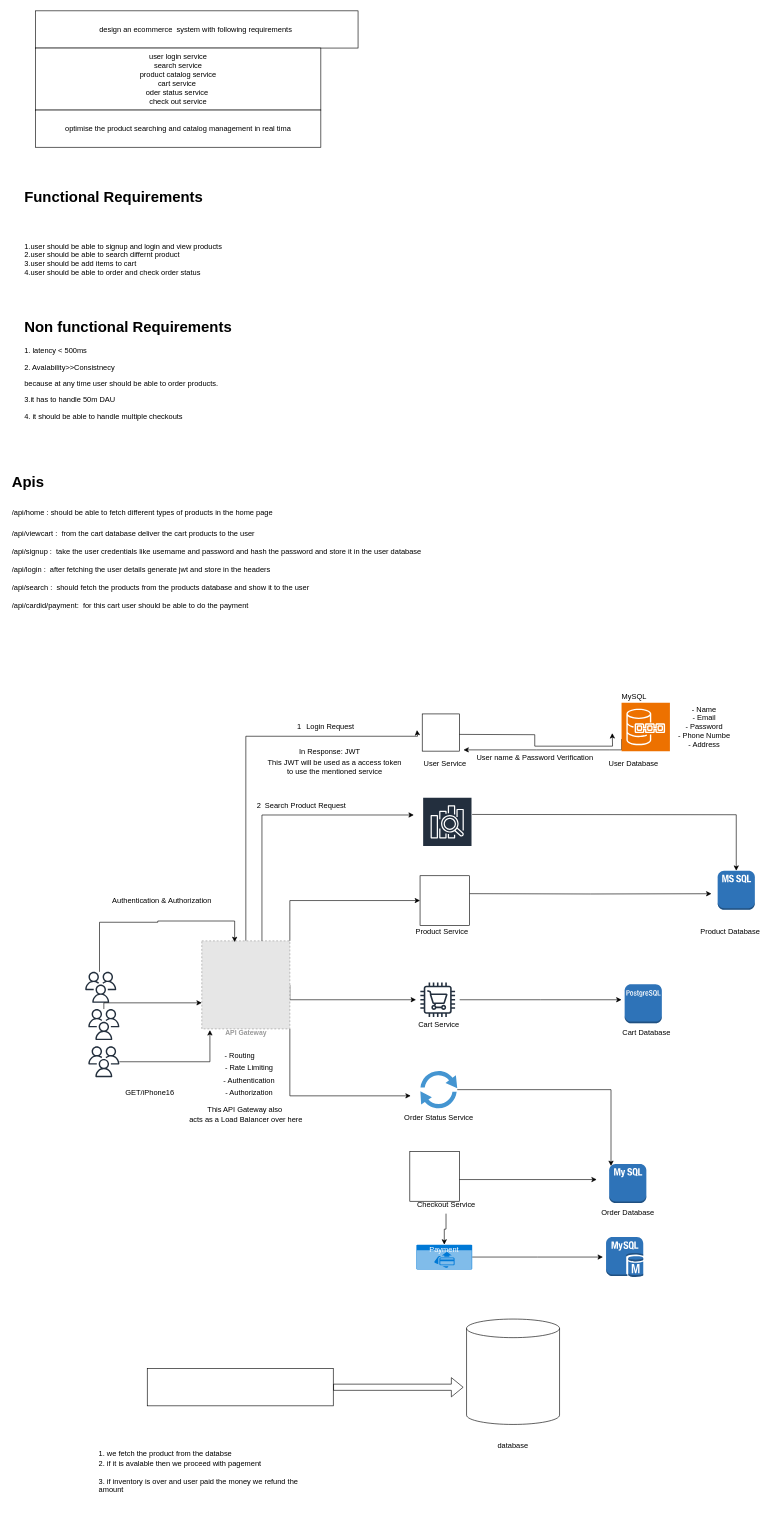
This 777x1524 diagram has some shape labels left out. Grey dashed boxes stand in for pictures. The box of each missing label's shape, as (x1, y1, x2, y2) in pixels:
Amazon Elasticsearch Service: (422, 796, 472, 871)
Inventory management: (147, 1368, 333, 1406)
